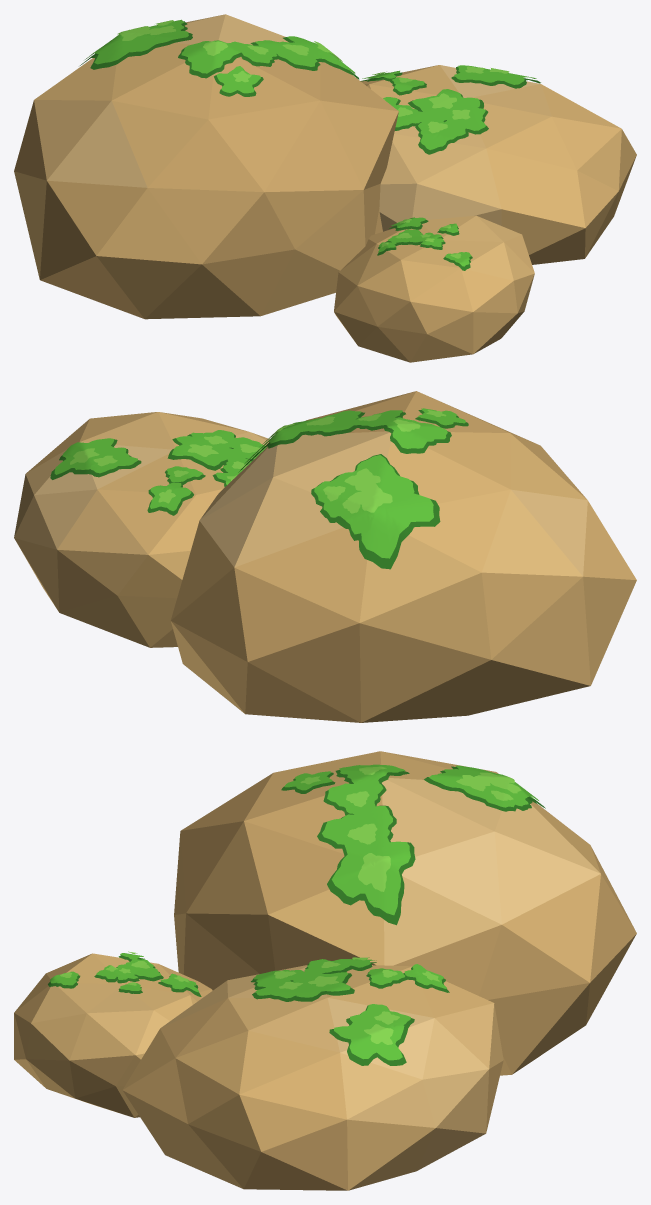
Rendered from rock_7_dots.glb.
3 views of the same model, one above another, from view 1: azimuth 30°, elevation 25°; view 2: azimuth 150°, elevation 25°; view 3: azimuth 270°, elevation 25° (orthographic). The views are drawn at different scales.
Parts seen in each view (by area): view 1: rock_7_dots; view 2: rock_7_dots; view 3: rock_7_dots.
Boxes of the visible parts, <box> form: rock_7_dots: <box>14,14,636,362</box>; rock_7_dots: <box>14,391,636,722</box>; rock_7_dots: <box>14,751,636,1190</box>.
Size of the model in its own units: 2.57 by 1.05 by 2.29.
